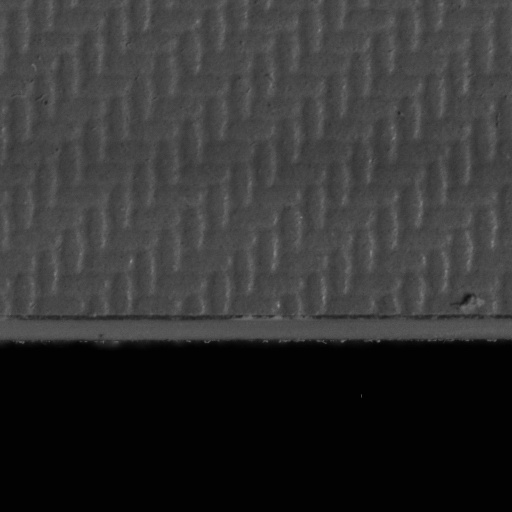jiaofeng: (8, 311, 240, 333), (315, 312, 511, 332)
